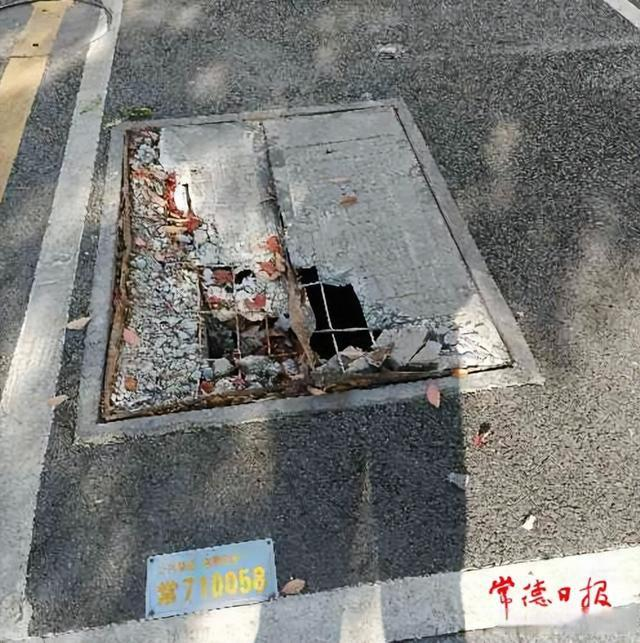wellcover: (94, 79, 535, 421)
